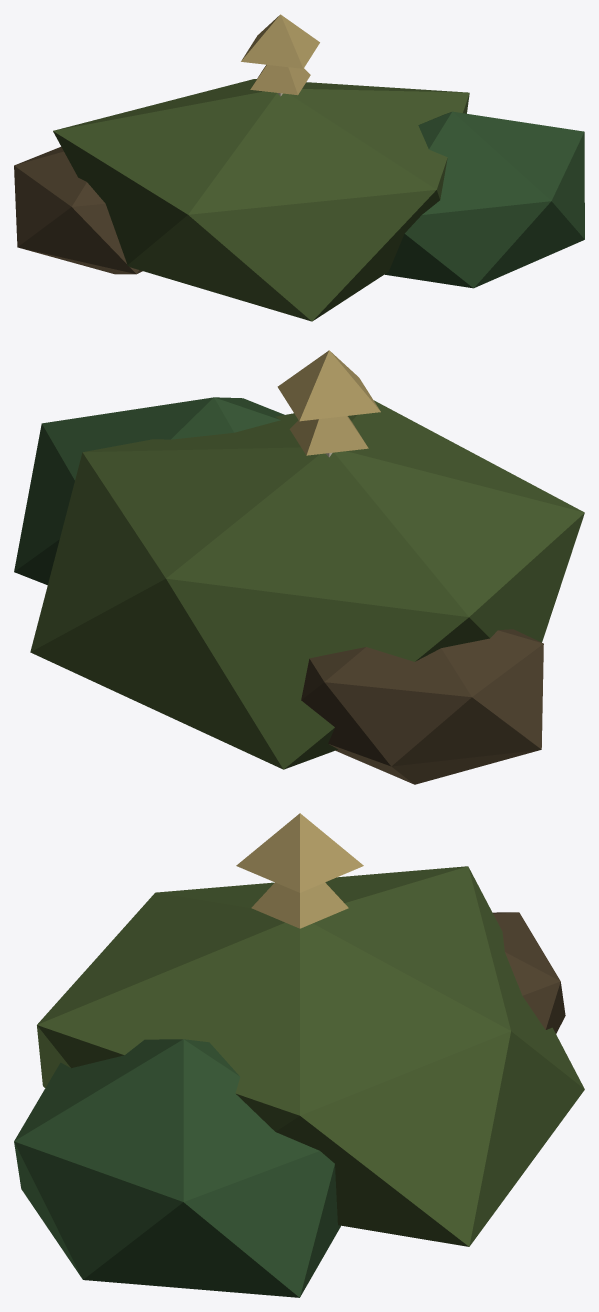
File: swamp_moss_clump.glb
The picture shows the model from 3 angles, top to bottom: view 1: azimuth 30°, elevation 25°; view 2: azimuth 150°, elevation 25°; view 3: azimuth 270°, elevation 25°; orthographic projection. The views are drawn at different scales.
Visible parts, largest first — view 1: swamp_moss_clump; view 2: swamp_moss_clump; view 3: swamp_moss_clump.
Part boxes in pixels (x1=…): swamp_moss_clump: x1=14, y1=14, x2=584, y2=321; swamp_moss_clump: x1=14, y1=350, x2=584, y2=784; swamp_moss_clump: x1=14, y1=813, x2=584, y2=1297.
Bounding box in the file's own units: 0.6575 × 0.3548 × 0.49.
2 materials, 2 textured.
